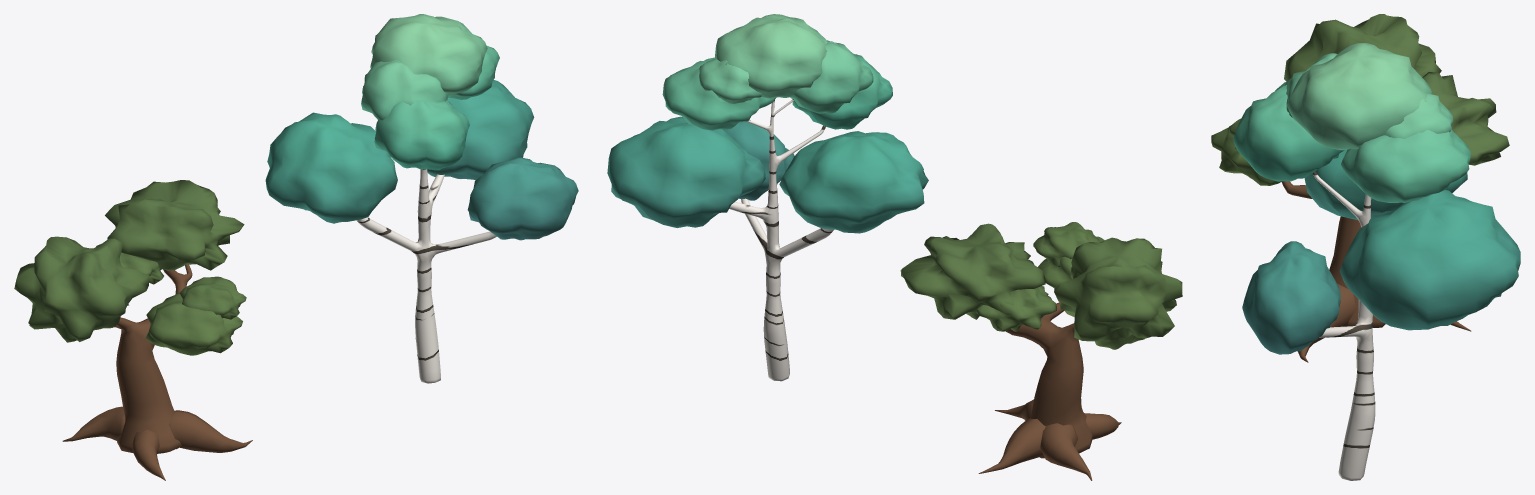
3 renders of one model, left to right at view 1: azimuth 30°, elevation 25°; view 2: azimuth 150°, elevation 25°; view 3: azimuth 270°, elevation 25°, orthographic. The views are drawn at different scales.
Parts seen in each view (by area): view 1: Object_8; view 2: Object_8; view 3: Object_8.
Boxes of the visible parts, left/top/right/bottom form: Object_8: left=14, top=14, right=578, bottom=480; Object_8: left=607, top=14, right=1182, bottom=480; Object_8: left=1211, top=14, right=1520, bottom=480.
Bounding box in the file's own units: 6.76 × 4.39 × 2.91.
1 material, 1 textured.
